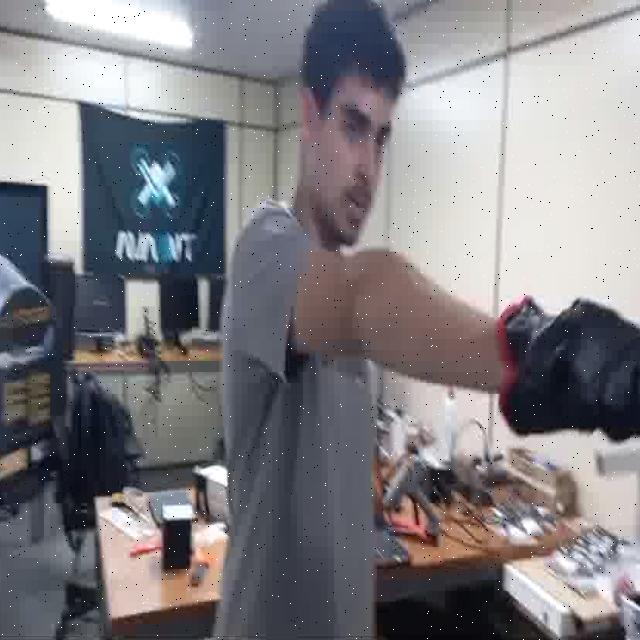Gloves: (496, 293, 640, 447)
